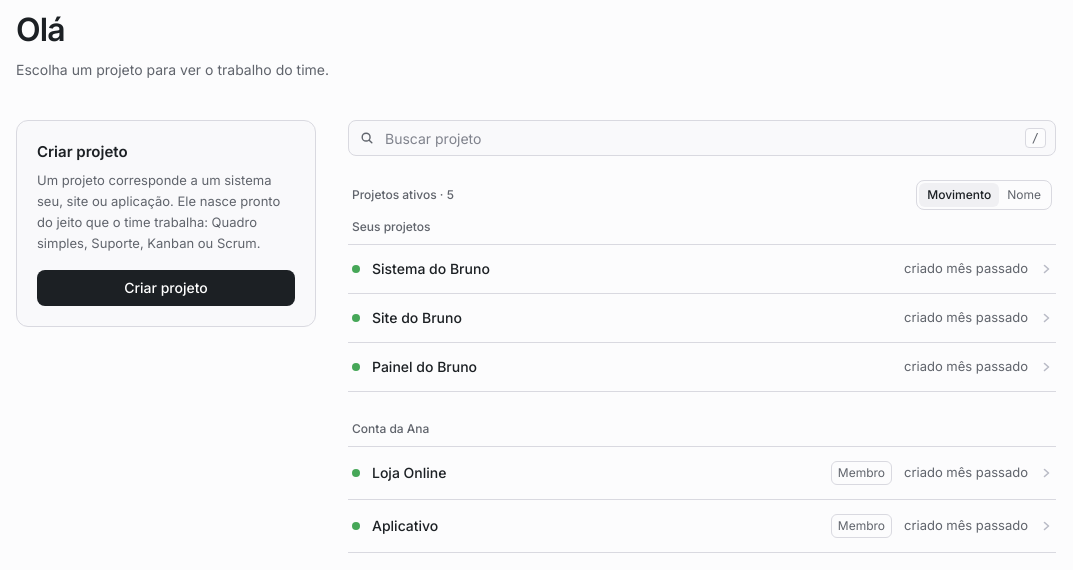
Test case: ProjectsHubScreen › a busca não desfaz os grupos: quem tem mais de uma conta continua vendo o título da sua
The image size is (1073, 570).
Type "bruno" into the search field labelled "Buscar projeto" at (702, 138), box [348,120,1056,156]
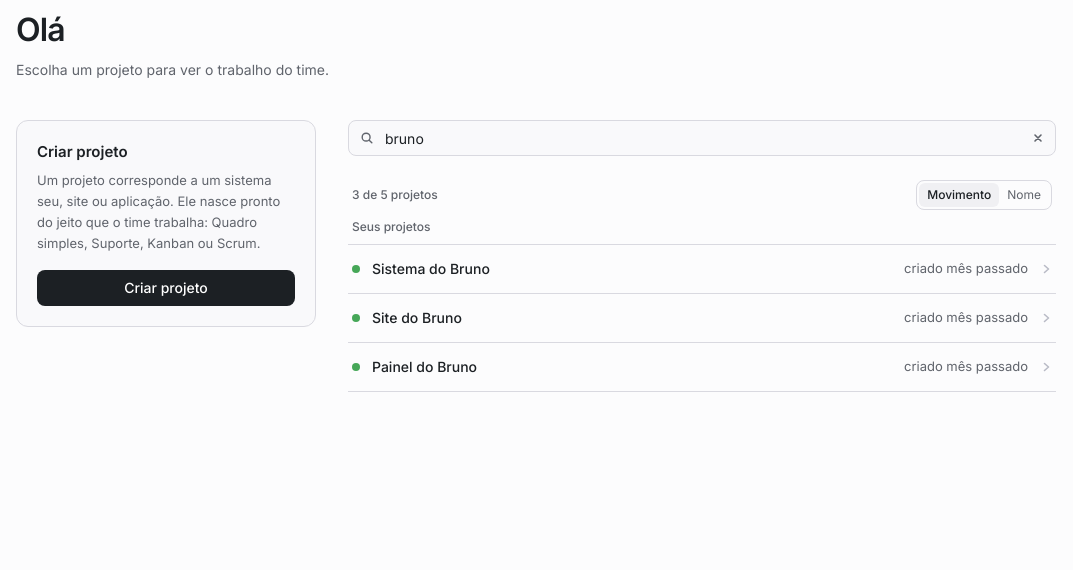
Check: the element "Seus projetos" is shown, box [348,218,1056,392]
Check: the heading "Conta da Ana" is gone
Check: the heading "3 de 5 projetos" is shown, box [352,186,438,204]
